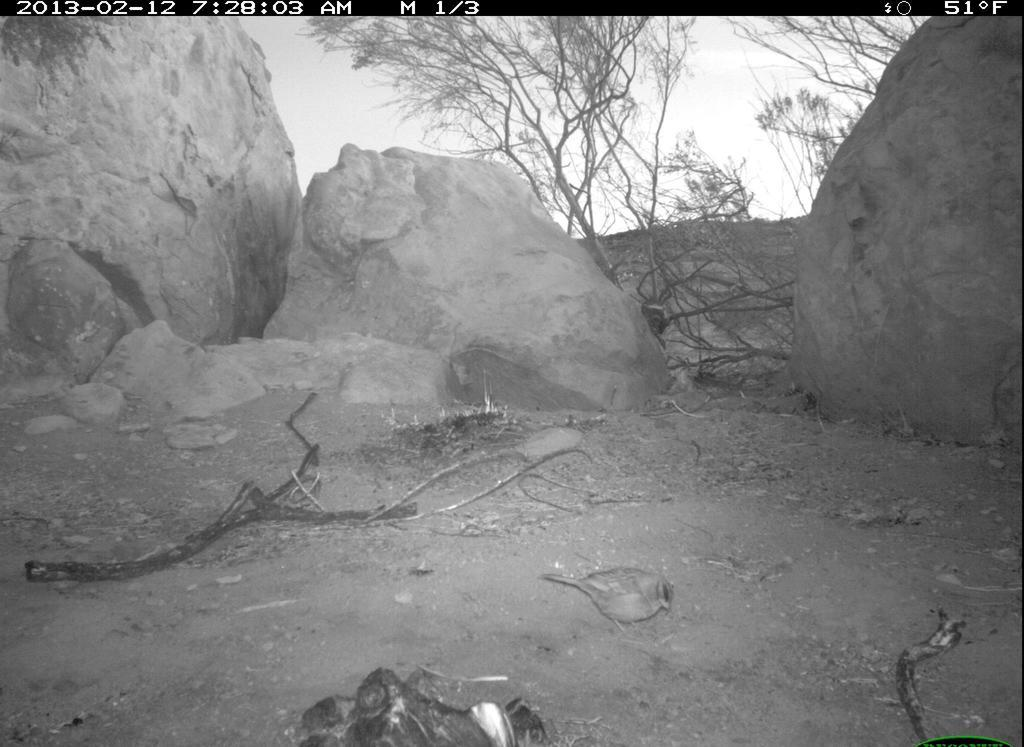bird: (538, 547, 688, 634)
